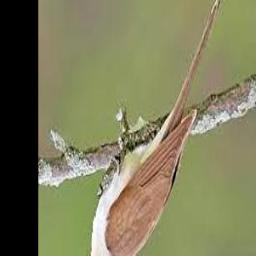Cuckoo: (76, 0, 224, 256)
